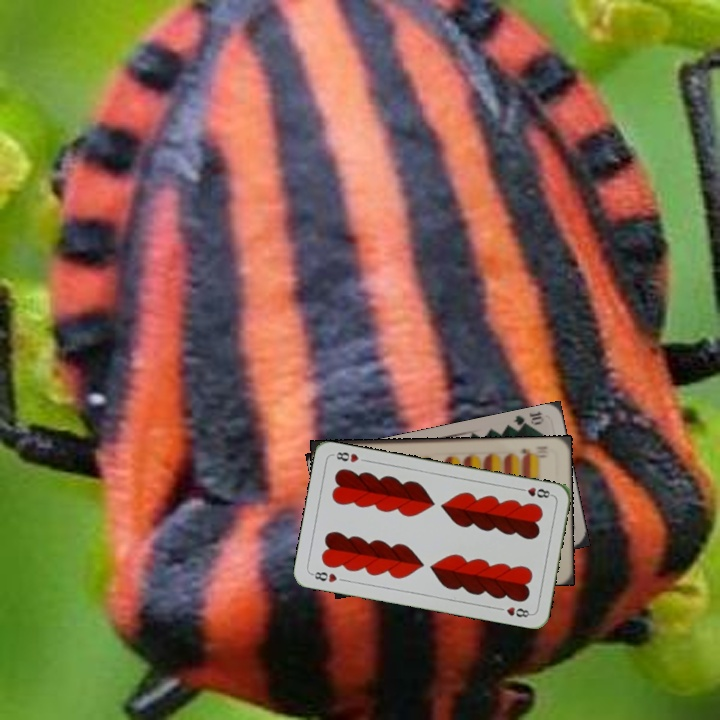E10: (516, 445, 550, 460)
G10: (507, 408, 545, 433)
H8: (515, 483, 555, 501), (308, 568, 340, 585)
